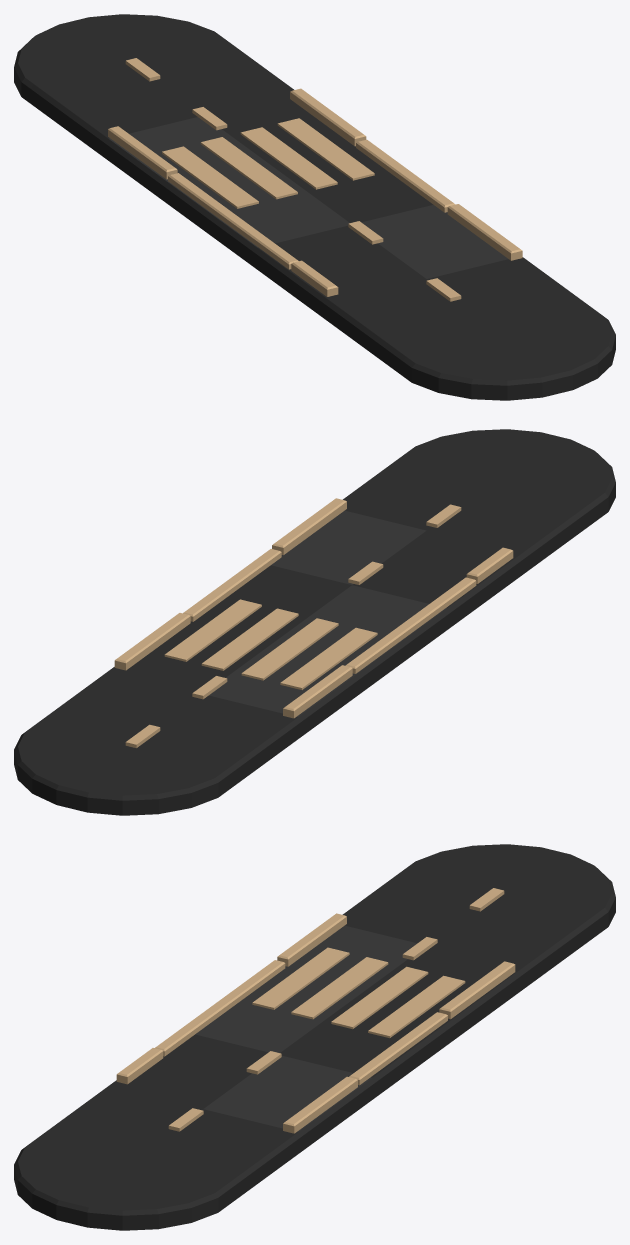
The model's file is RoadVarOne (1).fbx.
The picture shows the model from 3 angles, top to bottom: view 1: azimuth 30°, elevation 25°; view 2: azimuth 150°, elevation 25°; view 3: azimuth 330°, elevation 25°; orthographic projection.
Parts seen in each view (by area): view 1: Cylinder.026; view 2: Cylinder.026; view 3: Cylinder.026.
Part boxes in pixels (box(x1,y1,x2,y2)): Cylinder.026: box(14, 14, 615, 400); Cylinder.026: box(14, 429, 615, 815); Cylinder.026: box(14, 844, 615, 1230).
Bounding box in the file's own units: 83 × 11.01 × 355.
